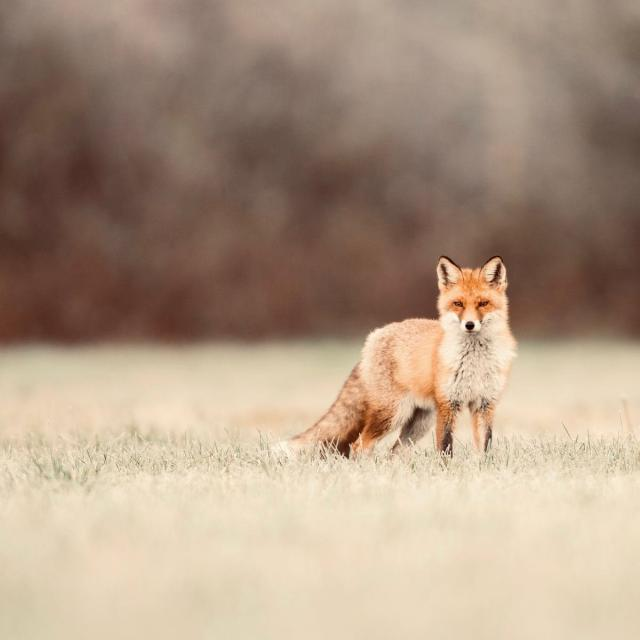fox: (289, 257, 516, 455)
